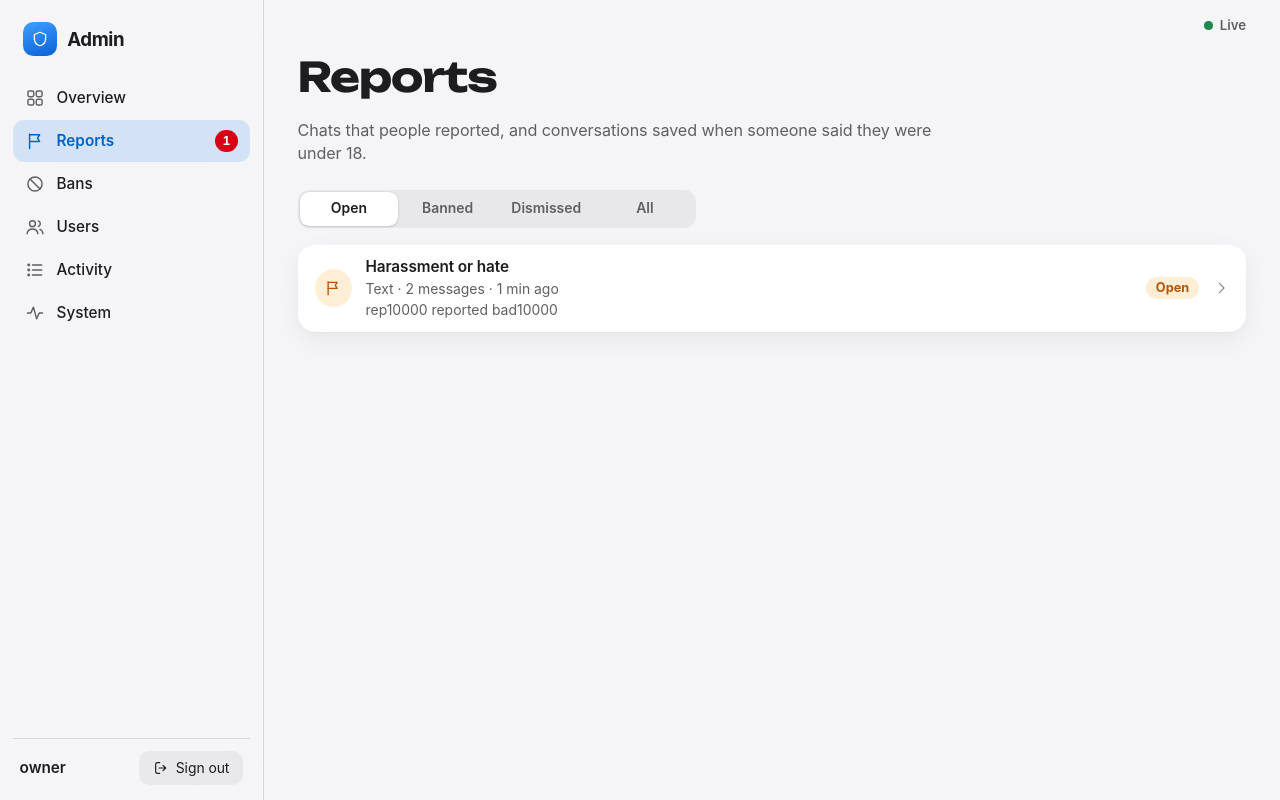
reports › warns when several different people have reported the same person
Click the button "Harassment" at (333, 288), box [298,244,1246,332]
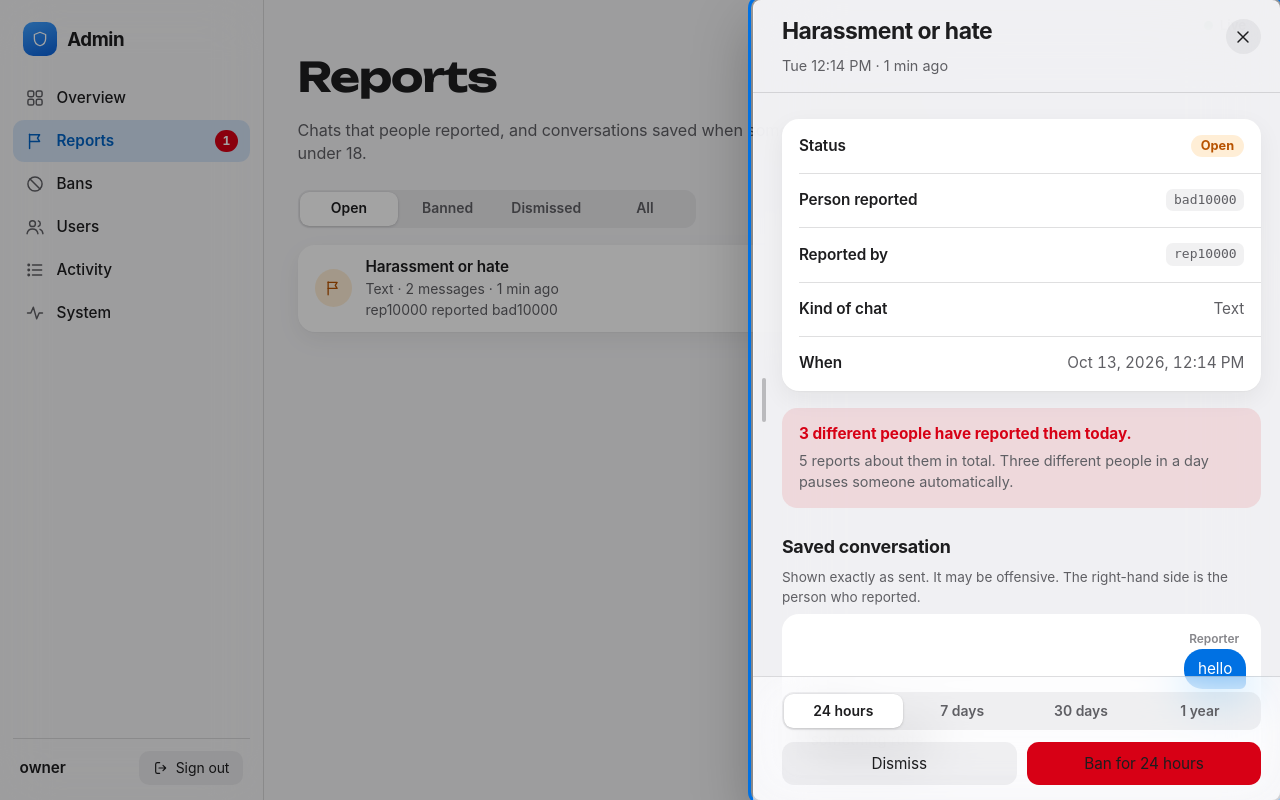
Result: the text "3 different people have reported them today." is shown at [799,424,1132,443]
Result: the text "5 reports about them in total" is shown at [799,452,996,469]
